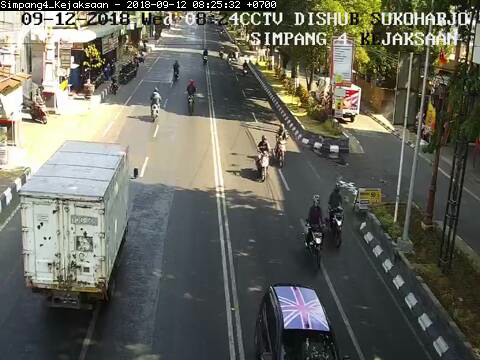motor: (304, 193, 325, 269), (327, 183, 348, 251), (255, 135, 273, 184), (274, 124, 289, 168)
